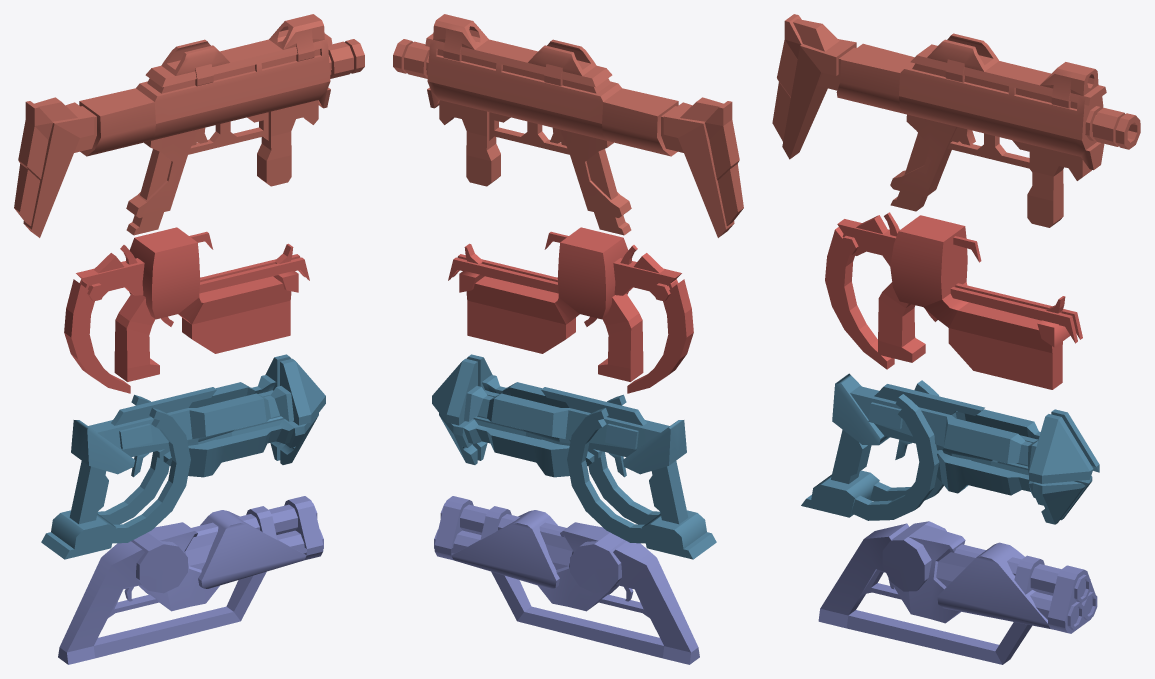
File: all.fbx
3 views of the same model, side by side, from view 1: azimuth 30°, elevation 25°; view 2: azimuth 150°, elevation 25°; view 3: azimuth 330°, elevation 25° (orthographic). The views are drawn at different scales.
Visible parts, largest first — view 1: Hellfire, Interceptor, Wardshot, Stinger; view 2: Hellfire, Interceptor, Wardshot, Stinger; view 3: Hellfire, Interceptor, Stinger, Wardshot.
Part boxes in pixels (box(x1,y1,x2,y2)): Hellfire: box(14, 14, 364, 237); Interceptor: box(41, 354, 325, 559); Wardshot: box(58, 496, 323, 664); Stinger: box(64, 227, 309, 393); Hellfire: box(393, 14, 743, 237); Interceptor: box(432, 354, 716, 559); Wardshot: box(434, 496, 699, 664); Stinger: box(448, 227, 693, 393); Hellfire: box(772, 14, 1140, 227); Interceptor: box(801, 373, 1099, 524); Stinger: box(825, 212, 1082, 389); Wardshot: box(818, 521, 1097, 664).
Bounding box in the file's own units: 75.2 × 123 × 15.41.
